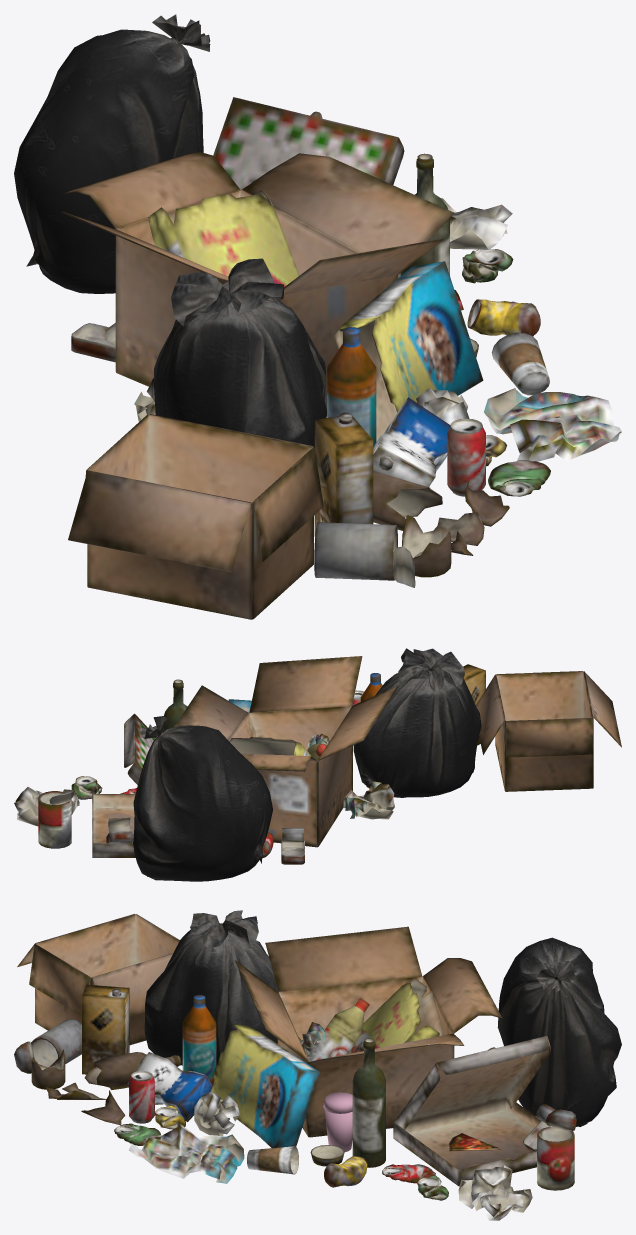
Rendered from trash 1 .fbx.
The picture shows the model from 3 angles, top to bottom: view 1: azimuth 30°, elevation 25°; view 2: azimuth 150°, elevation 25°; view 3: azimuth 270°, elevation 25°; orthographic projection. The views are drawn at different scales.
Parts seen in each view (by area): view 1: 23-_garbagebags, 32-_box_2_trash_dirty, 22-_boxes001_trash_di, 5-_cereals003_trash_d, 8-_pizzabox001_trash_, 16-_cereals004_trash_, 1-_trash_dirty, 14-_bottlebroken004_t, 30-_milk001_trash_dir, 25-_tin_trash_dirty_0, 4-_milk003_trash_dirt, 12-_plasticbottle003_ (+9 smaller); view 2: 23-_garbagebags, 22-_boxes001_trash_di, 32-_box_2_trash_dirty, 8-_pizzabox001_trash_, 13-_tin007_trash_dirt, 24-_paper3_trash_dirt, 16-_cereals004_trash_, 15-_paper014_trash_di, 26-_tin2_trash_dirty_, 30-_milk001_trash_dir, 7-_bottle003_trash_di, 6-_tin006_trash_dirty (+2 smaller); view 3: 23-_garbagebags, 22-_boxes001_trash_di, 8-_pizzabox001_trash_, 32-_box_2_trash_dirty, 5-_cereals003_trash_d, 1-_trash_dirty, 16-_cereals004_trash_, 14-_bottlebroken004_t, 30-_milk001_trash_dir, 7-_bottle003_trash_di, 13-_tin007_trash_dirt, 15-_paper014_trash_di (+16 smaller).
Boxes of the visible parts, left/top/right/bottom form: 23-_garbagebags: left=14, top=14, right=326, bottom=447; 32-_box_2_trash_dirty: left=68, top=414, right=327, bottom=619; 22-_boxes001_trash_di: left=61, top=152, right=453, bottom=410; 5-_cereals003_trash_d: left=334, top=261, right=483, bottom=441; 8-_pizzabox001_trash_: left=213, top=97, right=404, bottom=277; 16-_cereals004_trash_: left=148, top=189, right=299, bottom=287; 1-_trash_dirty: left=484, top=388, right=621, bottom=461; 14-_bottlebroken004_t: left=373, top=471, right=509, bottom=577; 30-_milk001_trash_dir: left=314, top=412, right=373, bottom=536; 25-_tin_trash_dirty_0: left=314, top=522, right=415, bottom=587; 4-_milk003_trash_dirt: left=373, top=397, right=450, bottom=487; 12-_plasticbottle003_: left=327, top=327, right=376, bottom=446; 23-_garbagebags: left=133, top=648, right=481, bottom=881; 22-_boxes001_trash_di: left=174, top=656, right=397, bottom=847; 32-_box_2_trash_dirty: left=476, top=671, right=621, bottom=791; 8-_pizzabox001_trash_: left=92, top=713, right=156, bottom=857; 13-_tin007_trash_dirt: left=38, top=790, right=74, bottom=848; 24-_paper3_trash_dirt: left=343, top=781, right=394, bottom=819; 16-_cereals004_trash_: left=229, top=737, right=310, bottom=755; 15-_paper014_trash_di: left=14, top=787, right=79, bottom=826; 26-_tin2_trash_dirty_: left=281, top=828, right=304, bottom=864; 30-_milk001_trash_dir: left=463, top=664, right=485, bottom=745; 7-_bottle003_trash_di: left=164, top=679, right=187, bottom=730; 6-_tin006_trash_dirty: left=106, top=817, right=132, bottom=843; 23-_garbagebags: left=144, top=910, right=621, bottom=1126; 22-_boxes001_trash_di: left=235, top=926, right=502, bottom=1137; 8-_pizzabox001_trash_: left=393, top=1036, right=551, bottom=1186; 32-_box_2_trash_dirty: left=17, top=914, right=179, bottom=1045; 5-_cereals003_trash_d: left=211, top=1024, right=319, bottom=1148; 1-_trash_dirty: left=128, top=1123, right=244, bottom=1183; 16-_cereals004_trash_: left=348, top=978, right=443, bottom=1053; 14-_bottlebroken004_t: left=31, top=1049, right=181, bottom=1125; 30-_milk001_trash_dir: left=82, top=984, right=129, bottom=1074; 7-_bottle003_trash_di: left=352, top=1038, right=385, bottom=1167; 13-_tin007_trash_dirt: left=537, top=1109, right=576, bottom=1190; 15-_paper014_trash_di: left=458, top=1165, right=532, bottom=1220.
Size of the model in its own units: 128 by 43.4 by 139.
